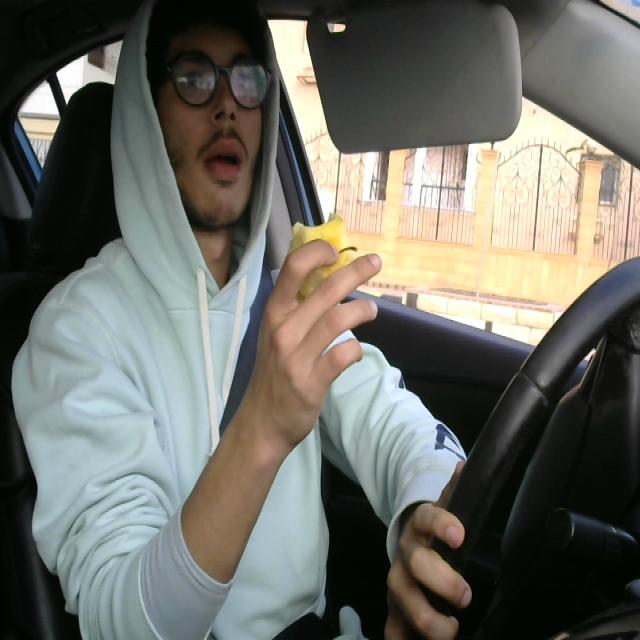eating: (280, 212, 358, 310)
